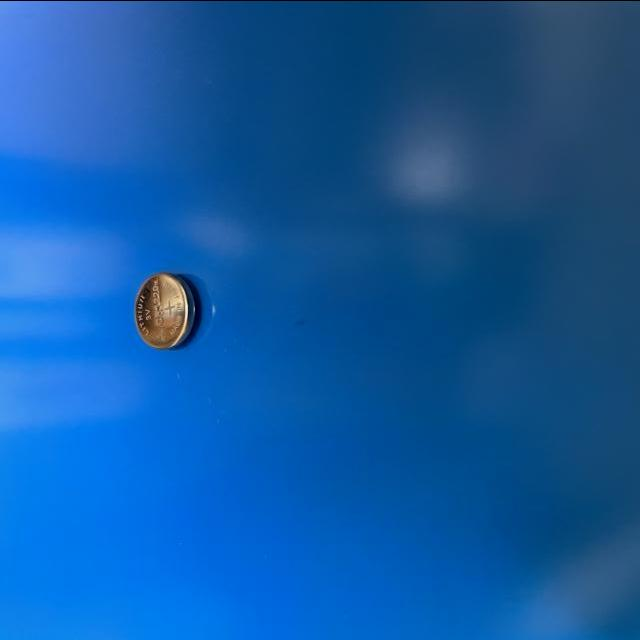COIN: (134, 271, 198, 347)
